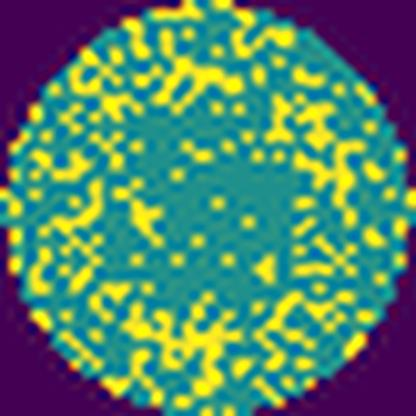Loc: (127, 298, 245, 396), (296, 136, 369, 220), (153, 62, 244, 113), (291, 89, 332, 150)
